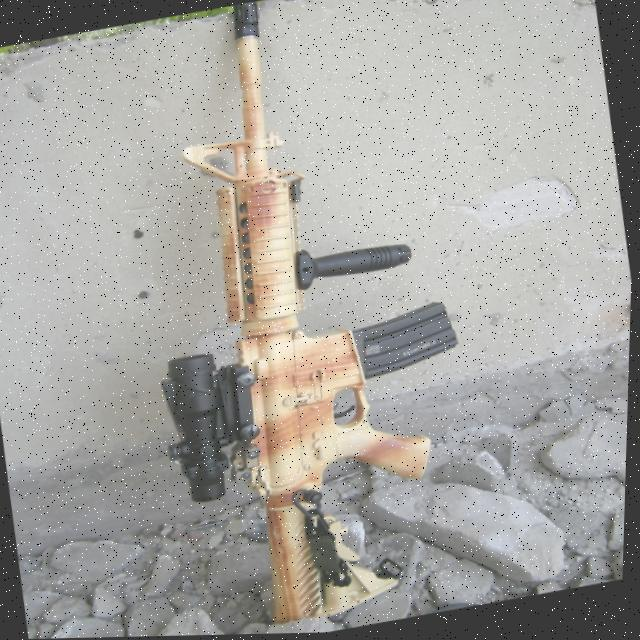firearm: (92, 0, 513, 638)
